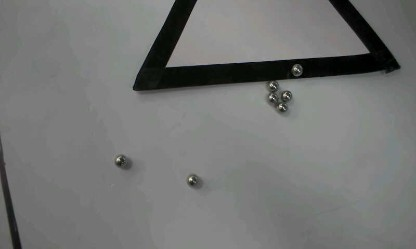ironball: (185, 173, 199, 187), (113, 153, 126, 167), (266, 79, 278, 92), (290, 63, 302, 76), (280, 89, 292, 101), (267, 92, 278, 103), (276, 101, 287, 112)
